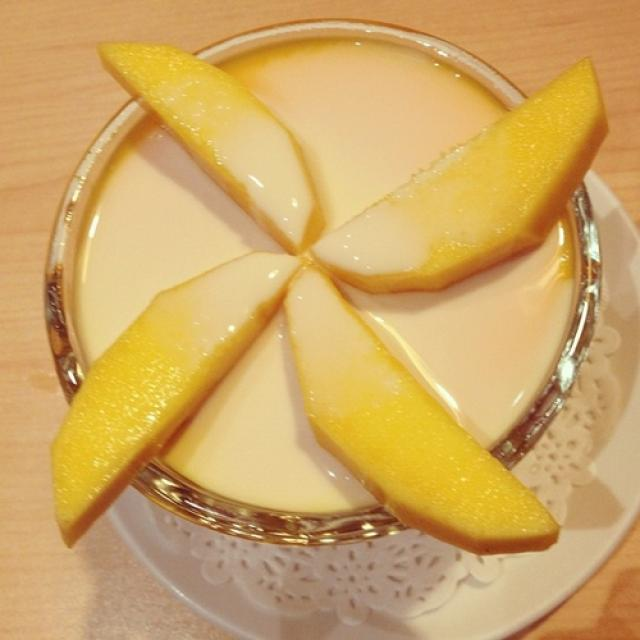蛋糕甜品: (19, 8, 608, 586)
